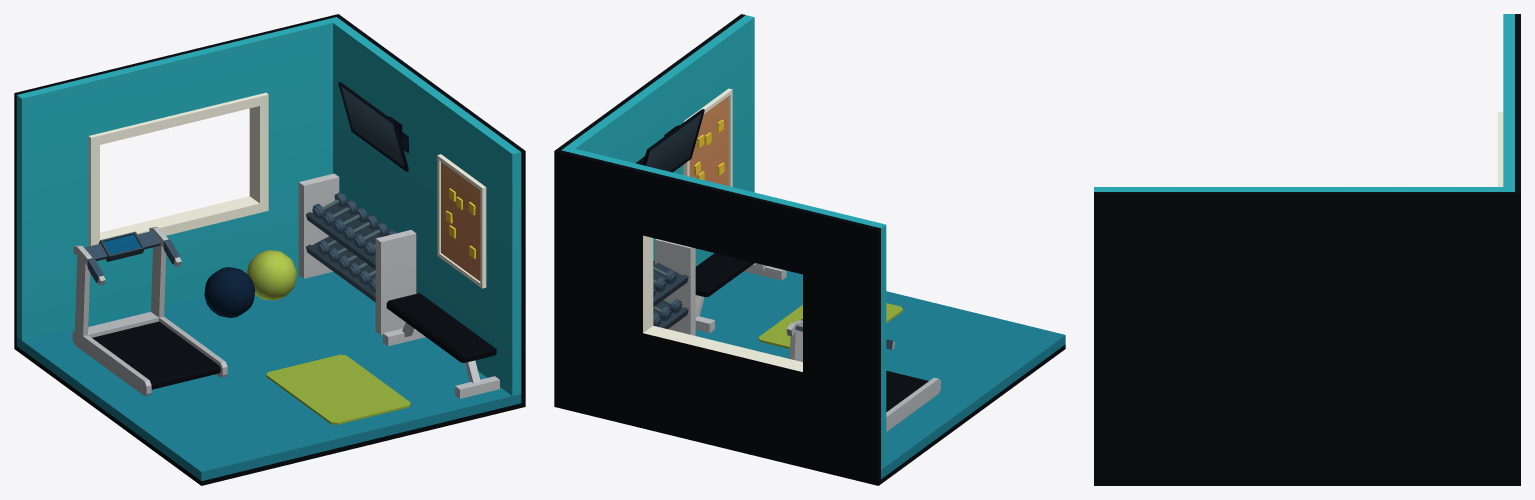
File: room2.glb
3 views of the same model, side by side, from view 1: azimuth 30°, elevation 25°; view 2: azimuth 150°, elevation 25°; view 3: azimuth 270°, elevation 25° (orthographic). The views are drawn at different scales.
Visible parts, largest first — view 1: Walls1, Treadmill, pCube8, Cork_Board, Side_Right, Seat, TV1, Side_Left, YogaBall1, YogaBall, Shelf_Top, Shelf_Bottom (+1 smaller); view 2: Walls1, Cork_Board, Treadmill, Side_Right, TV1, Seat, pCube8, Shelf_Top; view 3: Walls1.
Part boxes in pixels (x1,y1,x2,y2): Walls1: [14, 14, 525, 485]; Treadmill: [72, 227, 227, 396]; pCube8: [266, 354, 410, 424]; Cork_Board: [437, 154, 486, 288]; Side_Right: [375, 230, 416, 334]; Seat: [386, 293, 496, 362]; TV1: [338, 82, 408, 171]; Side_Left: [298, 173, 339, 278]; YogaBall1: [204, 267, 255, 317]; YogaBall: [246, 250, 296, 300]; Shelf_Top: [306, 204, 380, 269]; Shelf_Bottom: [306, 236, 375, 302]; Walls1: [554, 14, 1065, 485]; Cork_Board: [683, 88, 732, 186]; Treadmill: [786, 319, 940, 431]; Side_Right: [655, 239, 695, 335]; TV1: [636, 109, 704, 172]; Seat: [695, 253, 754, 297]; pCube8: [758, 303, 902, 348]; Shelf_Top: [653, 262, 688, 306]; Walls1: [1094, 14, 1520, 485].
Size of the model in its own units: 3.65 by 2.75 by 3.65.
Materials: 1 (1 with a texture image).
